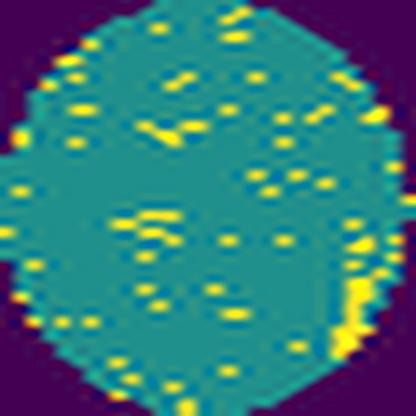Edge-Loc: (330, 271, 386, 362)
